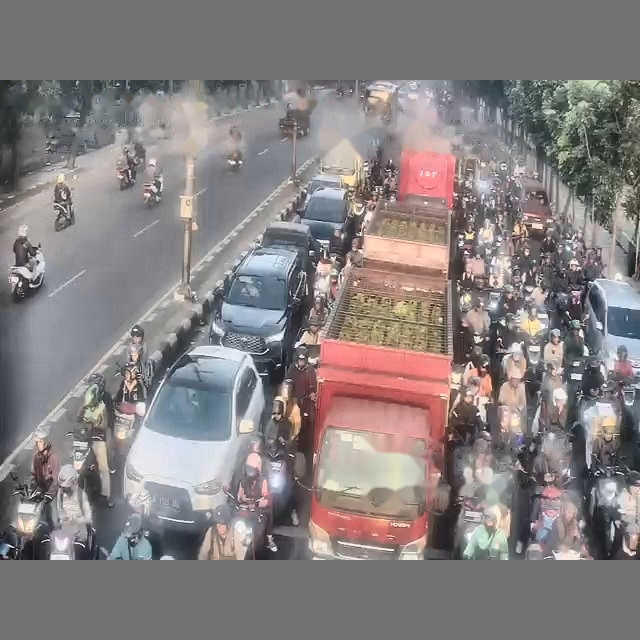Mobil: (124, 345, 264, 531), (209, 247, 306, 375), (585, 278, 639, 376), (299, 188, 354, 252), (260, 221, 319, 276), (517, 177, 552, 235), (306, 174, 343, 195)
Motor: (588, 455, 627, 557), (10, 472, 47, 559), (265, 438, 301, 520), (8, 245, 45, 301), (42, 525, 99, 560), (113, 402, 145, 455), (54, 202, 74, 231), (116, 167, 133, 190), (143, 183, 159, 207), (227, 150, 243, 170)
Truk: (309, 254, 452, 559), (398, 149, 456, 208)
